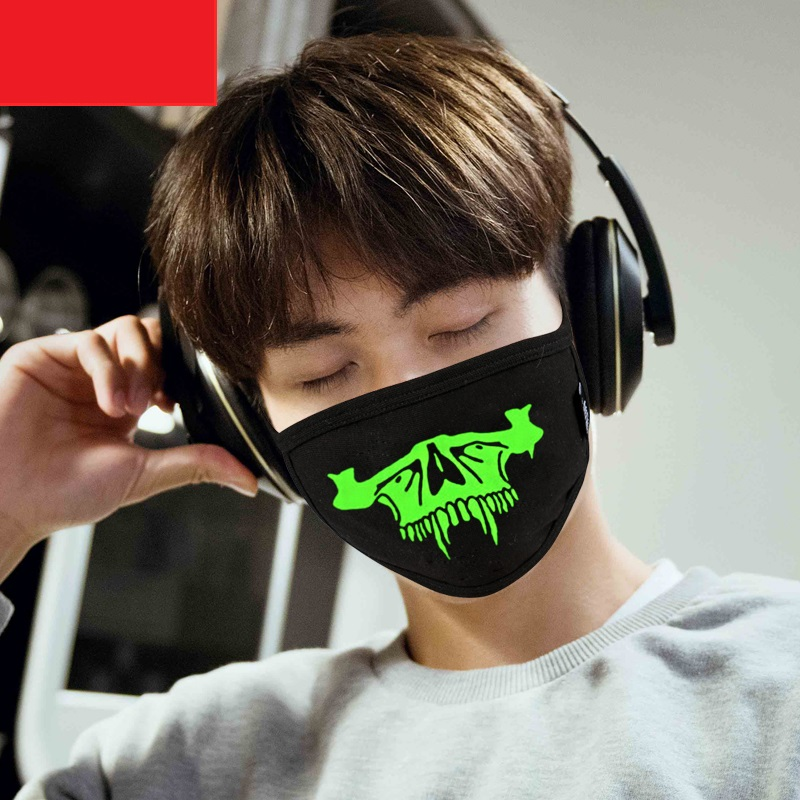face_mask: (262, 189, 579, 594)
